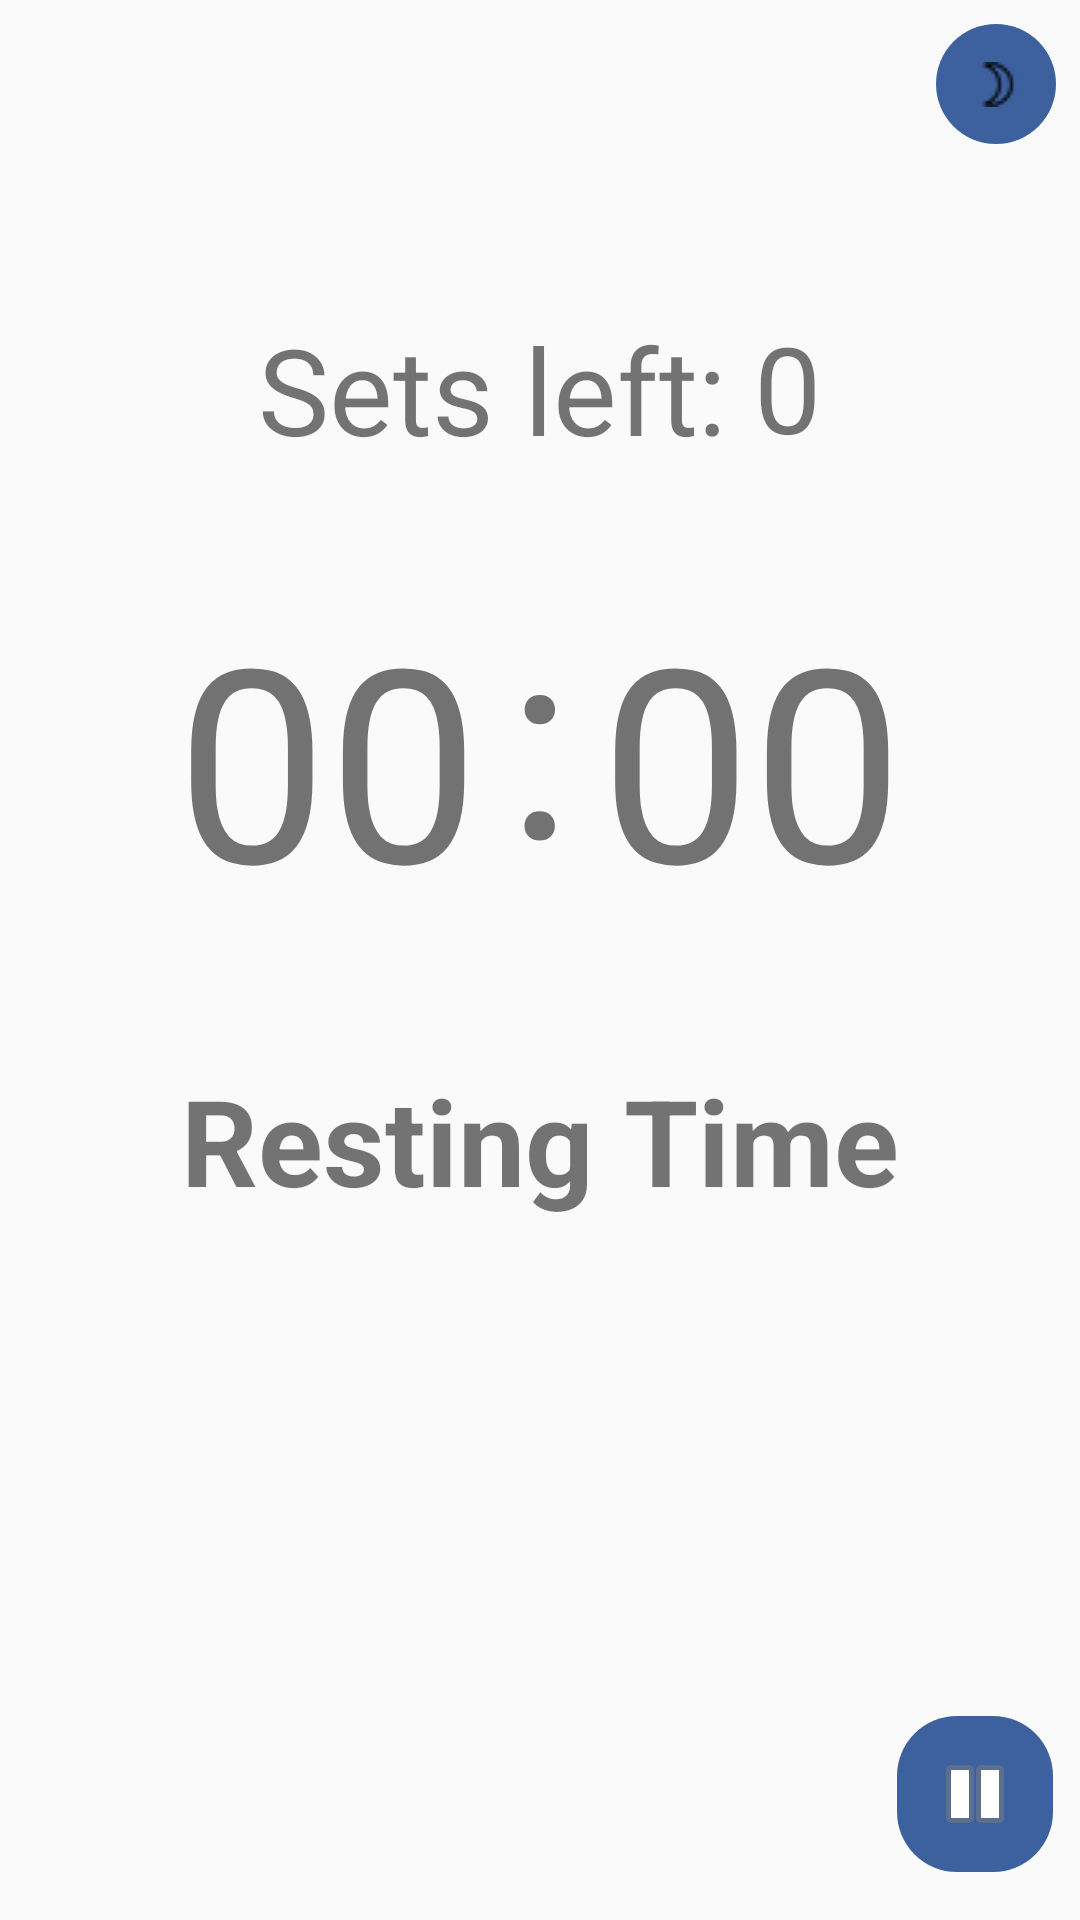

Named icons in this screenshot (1080w x 1920h) and their centers, (x,y):
pause: (975,1794)
rsz moon: (996,84)
